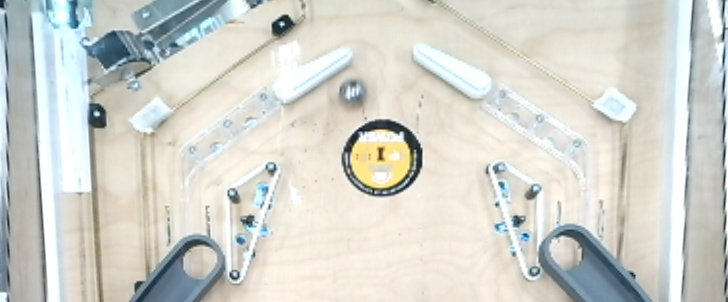ball: (336, 77, 369, 108)
flipper-left: (406, 37, 501, 108)
flipper-right: (269, 41, 356, 109)
